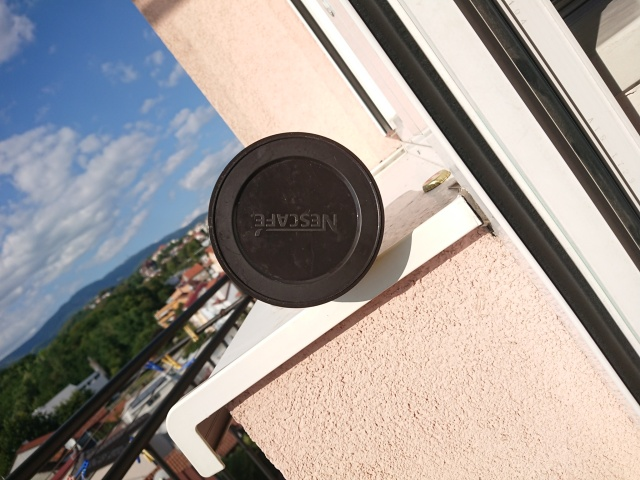Nescafe Classic 225g: (200, 125, 394, 315)
